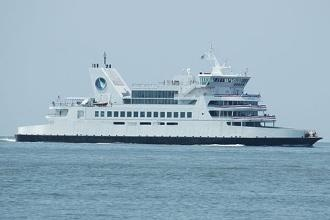yacht: (14, 61, 324, 143)
